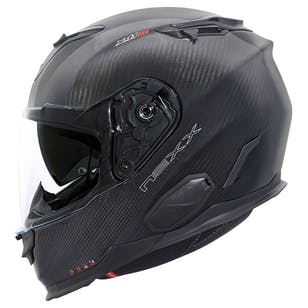with_helmet: (11, 3, 294, 301)
